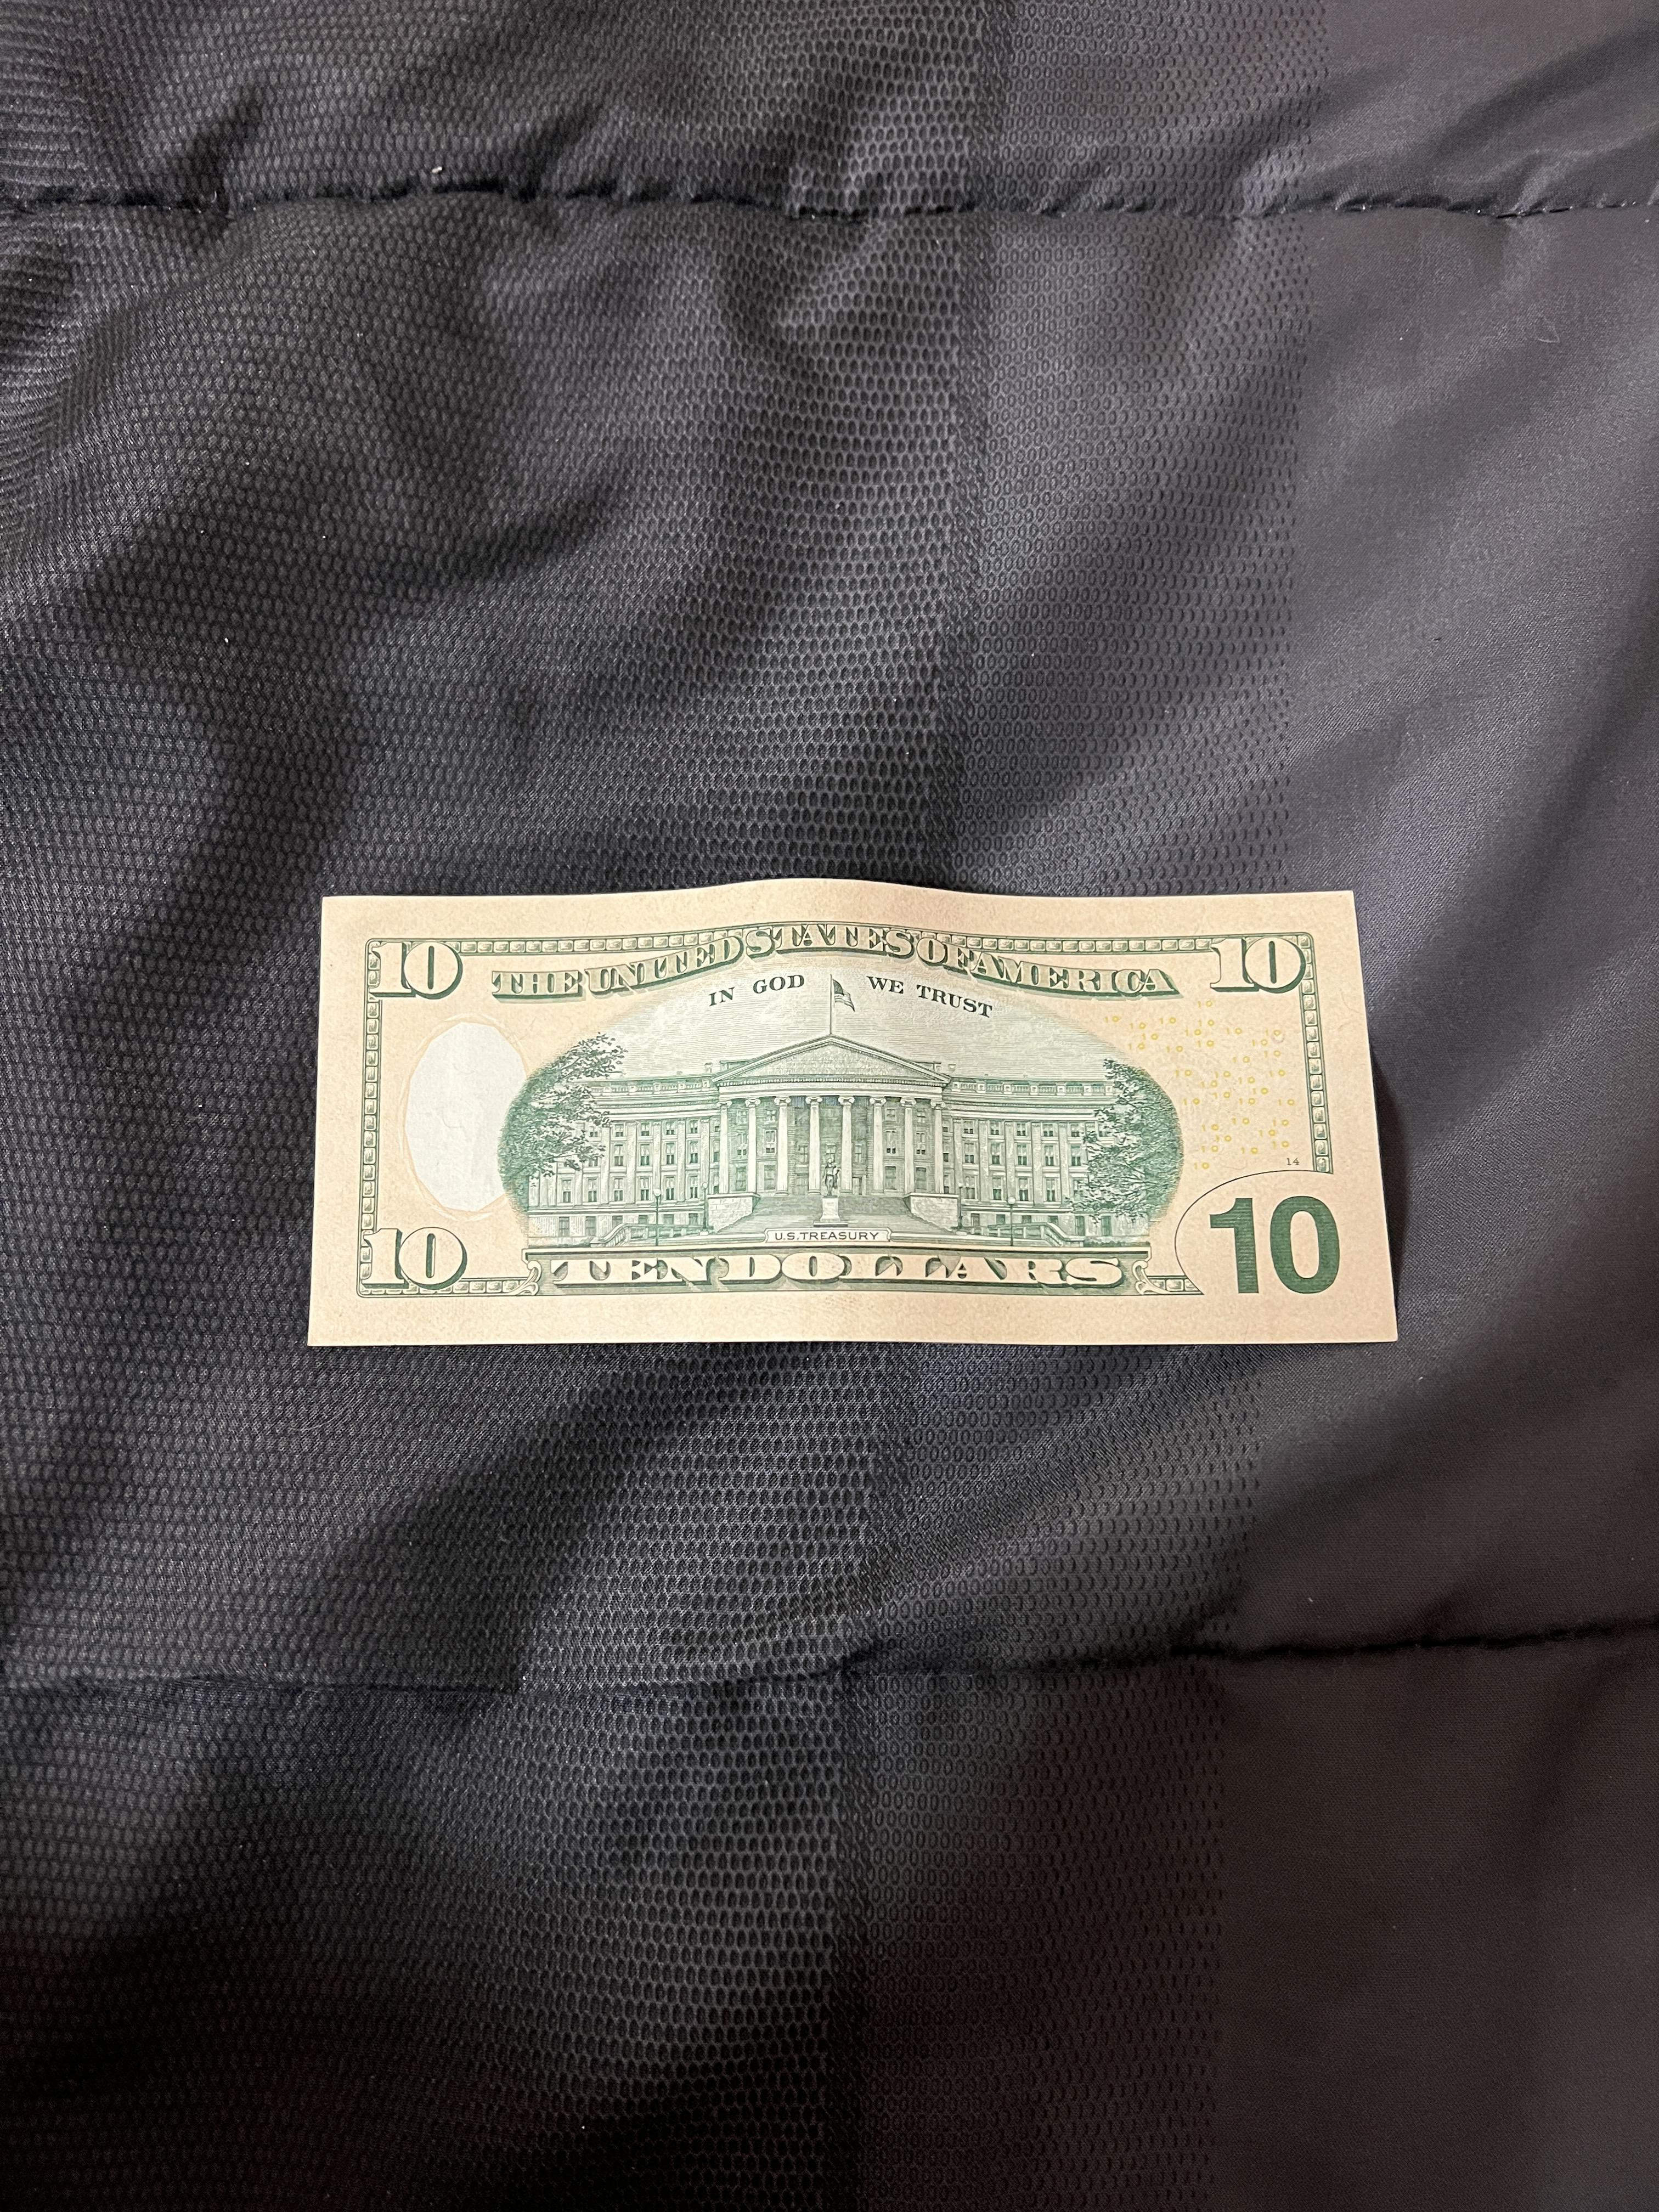TenBill: (310, 876, 1405, 1360)
